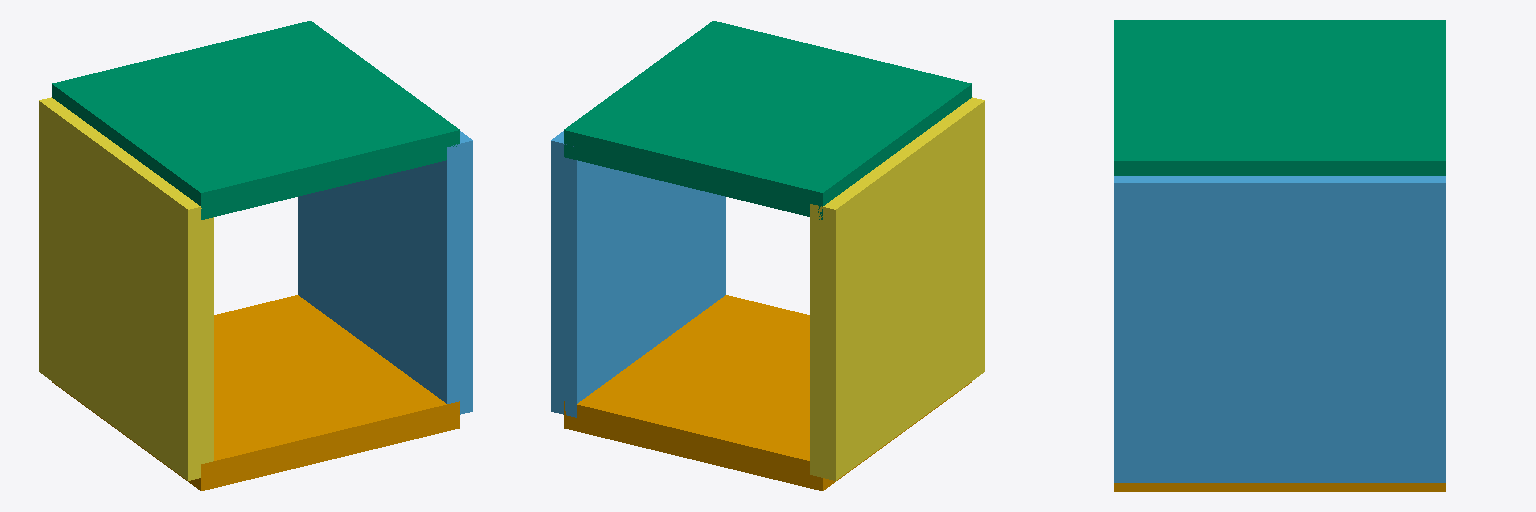
The robot description file, URDF, robot "closed_chain":
<?xml version="1.0" ?>
<robot name="closed_chain">

  <link name="right_pad1">
    <inertial>
      <mass value="1.41502697"/>
      <origin rpy="0 0 0" xyz="0.00008301 0.00000908 0.03819562"/>
      <inertia ixx="0.00248548" ixy="-0.00000074" ixz="0.000003761" iyy="0.00121388" iyz="-0.00000042" izz="0.00287756"/>
    </inertial>
    <collision name="right_pad1_collision">
      <origin rpy="0  0  0" xyz="0.5  0   0"/>
      <geometry>
        <box size="1.0 1.0 0.1"/>
      </geometry>
    </collision>
    <visual name="right_pad1_visual">
      <origin rpy="0  0  0" xyz="0.5  0   0"/>
      <geometry>
        <box size="1.0 1.0 0.1"/>
      </geometry>
    </visual>
  </link>
  <link name="right_pad2">
    <inertial>
      <mass value="1.41502697"/>
      <origin rpy="0 0 0" xyz="0.00008301 0.00000908 0.03819562"/>
      <inertia ixx="0.00248548" ixy="-0.00000074" ixz="0.000003761" iyy="0.00121388" iyz="-0.00000042" izz="0.00287756"/>
    </inertial>
    <collision name="right_pad2_collision">
      <origin rpy="0  0  0" xyz="0.5  0   0"/>
      <geometry>
        <box size="1.0 1.0 0.1"/>
      </geometry>
    </collision>
    <visual name="right_pad2_visual">
      <origin rpy="0  0  0" xyz="0.5  0   0"/>
      <geometry>
        <box size="1.0 1.0 0.1"/>
      </geometry>
    </visual>
  </link>
  <link name="right_pad3">
    <inertial>
      <mass value="1.41502697"/>
      <origin rpy="0 0 0" xyz="0.00008301 0.00000908 0.03819562"/>
      <inertia ixx="0.00248548" ixy="-0.00000074" ixz="0.000003761" iyy="0.00121388" iyz="-0.00000042" izz="0.00287756"/>
    </inertial>
    <collision name="right_pad3_collision">
      <origin rpy="0  0  0" xyz="0.5  0   0"/>
      <geometry>
        <box size="1.0 1.0 0.1"/>
      </geometry>
    </collision>
    <visual name="right_pad3_visual">
      <origin rpy="0  0  0" xyz="0.5  0   0"/>
      <geometry>
        <box size="1.0 1.0 0.1"/>
      </geometry>
    </visual>
  </link>
  <link name="right_pad4">
    <inertial>
      <mass value="1.41502697"/>
      <origin rpy="0 0 0" xyz="0.00008301 0.00000908 0.03819562"/>
      <inertia ixx="0.00248548" ixy="-0.00000074" ixz="0.000003761" iyy="0.00121388" iyz="-0.00000042" izz="0.00287756"/>
    </inertial>
    <collision name="right_pad4_collision">
      <origin rpy="0  0  0" xyz="0.5  0   0"/>
      <geometry>
        <box size="1.0 1.0 0.1"/>
      </geometry>
    </collision>
    <visual name="right_pad4_visual">
      <origin rpy="0  0  0" xyz="0.5  0   0"/>
      <geometry>
        <box size="1.0 1.0 0.1"/>
      </geometry>
    </visual>
  </link>

  <joint name="right_pad_joint1" type="fixed">
    <parent link="right_pad1"/>
    <child link="right_pad2"/>
    <origin rpy="3.14159 -1.57079  3.14159" xyz="1  0  0"/>
    <axis xyz="0  1  0"/>
    <limit effort="100" lower="-3.14" upper="3.14" velocity="10."/>
  </joint>
  
  <joint name="right_pad_joint2" type="fixed">
    <parent link="right_pad2"/>
    <child link="right_pad3"/>
    <origin rpy="3.14159 -1.57079  3.14159" xyz="1  0  0"/>
    <axis xyz="0  1  0"/>
    <limit effort="100" lower="-3.14" upper="3.14" velocity="10."/>
  </joint>

  <joint name="right_pad_joint3" type="fixed">
    <parent link="right_pad3"/>
    <child link="right_pad4"/>
    <origin rpy="3.14159 -1.57079  3.14159" xyz="1  0  0"/>
    <axis xyz="0  1  0"/>
    <limit effort="100" lower="-3.14" upper="3.14" velocity="10."/>
  </joint>

  <transmission name="right_pad_joint2_trans">
    <type>transmission_interface/SimpleTransmission</type>
    <joint name="right_pad_joint2">
      <hardwareInterface>hardware_interface/EffortJointInterface</hardwareInterface>
    </joint>
    <actuator name="right_pad_joint2_motor">
      <hardwareInterface>hardware_interface/EffortJointInterface</hardwareInterface>
      <mechanicalReduction>1</mechanicalReduction>
    </actuator>
  </transmission>

  <gazebo>
    <plugin filename="libgazebo_ros_control.so" name="gazebo_ros_control">
      <robotNamespace>/closed_chain</robotNamespace>
    </plugin>
  </gazebo>

</robot>

--- Facts derived from the render (not from the file) ---
3 views of the same robot in one strip: view 1: azimuth 30°, elevation 25°; view 2: azimuth 150°, elevation 25°; view 3: azimuth 270°, elevation 25° (orthographic).
Model closed_chain with 4 links and 3 joints (3 fixed), rooted at right_pad1, posed all joints at 0.
Visible links, largest first — view 1: right_pad4, right_pad3, right_pad2, right_pad1; view 2: right_pad4, right_pad3, right_pad2, right_pad1; view 3: right_pad2, right_pad3, right_pad1.
Boxes of the visible links, bbox=[...] form: right_pad4: bbox=[39, 97, 213, 480]; right_pad3: bbox=[52, 21, 459, 219]; right_pad2: bbox=[298, 131, 472, 414]; right_pad1: bbox=[52, 295, 459, 490]; right_pad4: bbox=[810, 97, 984, 480]; right_pad3: bbox=[564, 21, 971, 219]; right_pad2: bbox=[551, 131, 725, 417]; right_pad1: bbox=[564, 295, 971, 490]; right_pad2: bbox=[1114, 176, 1445, 482]; right_pad3: bbox=[1114, 20, 1445, 175]; right_pad1: bbox=[1114, 483, 1445, 491].
Size in the robot's own frame: 1.1 by 1 by 1.1 metres.
Geometry: primitives only (box / cylinder / sphere), no mesh files.